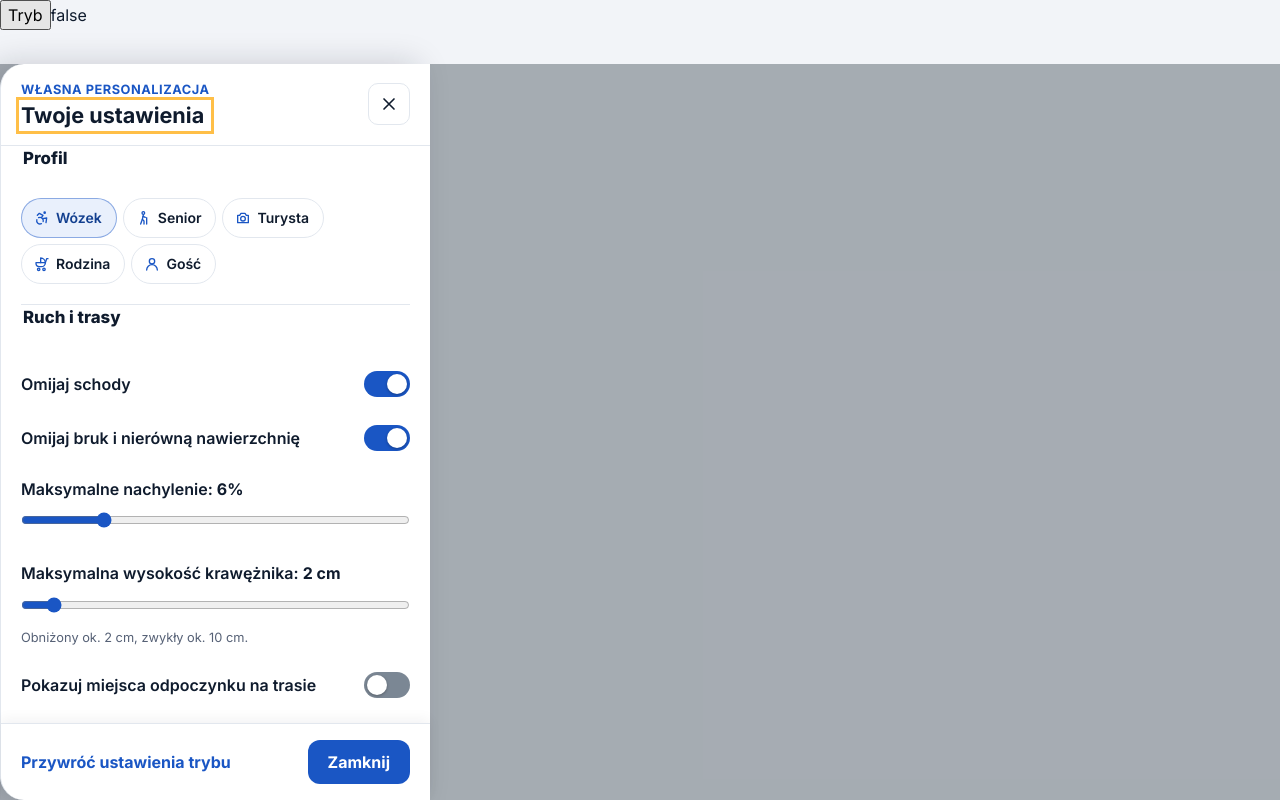
Test case: SettingsDrawer › przywraca preset wybranego trybu
Set the slider labelled "Maksymalne nachylenie: 6%" to "12" at point(178, 520), box left=21, top=507, right=410, bottom=533
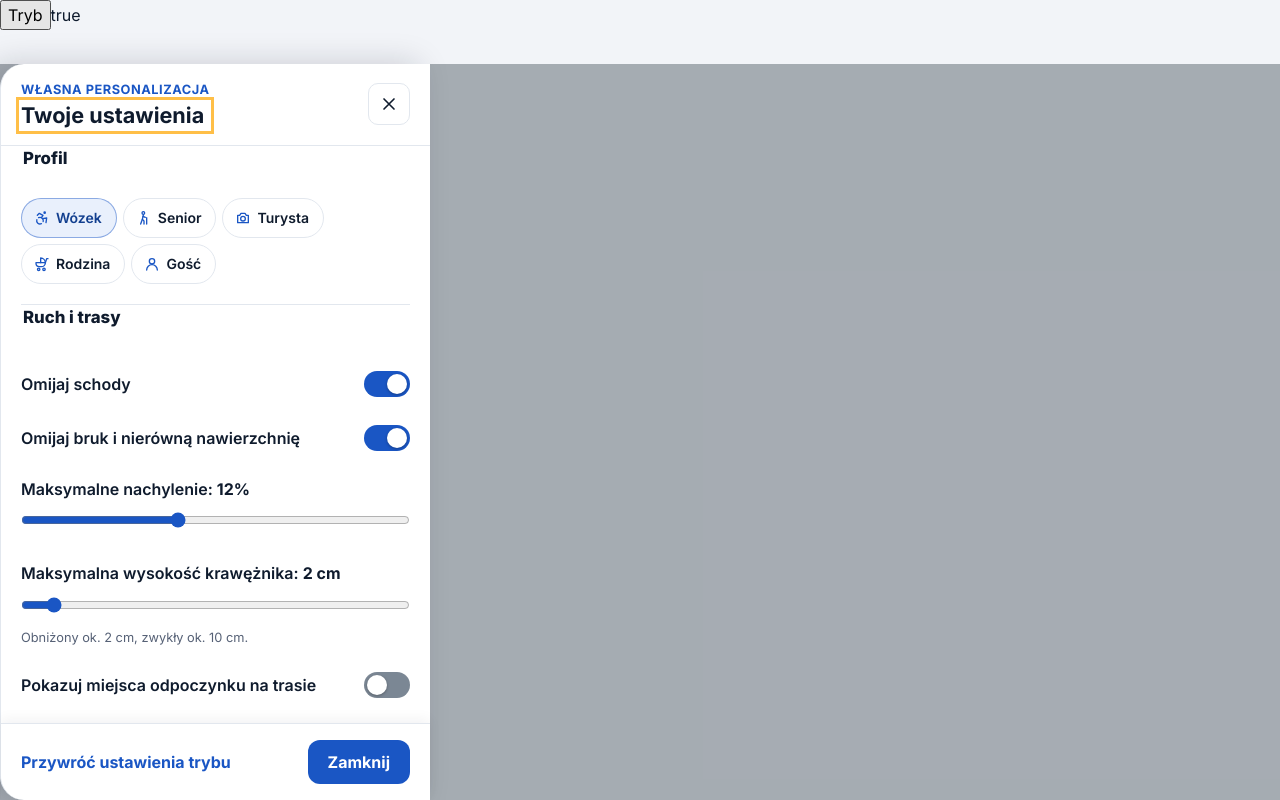
Expected: the text named "Stan personalizacji" reads "true", left=51, top=5, right=81, bottom=25
Click the button "Przywróć ustawienia trybu" at point(126, 762), box left=21, top=741, right=231, bottom=783
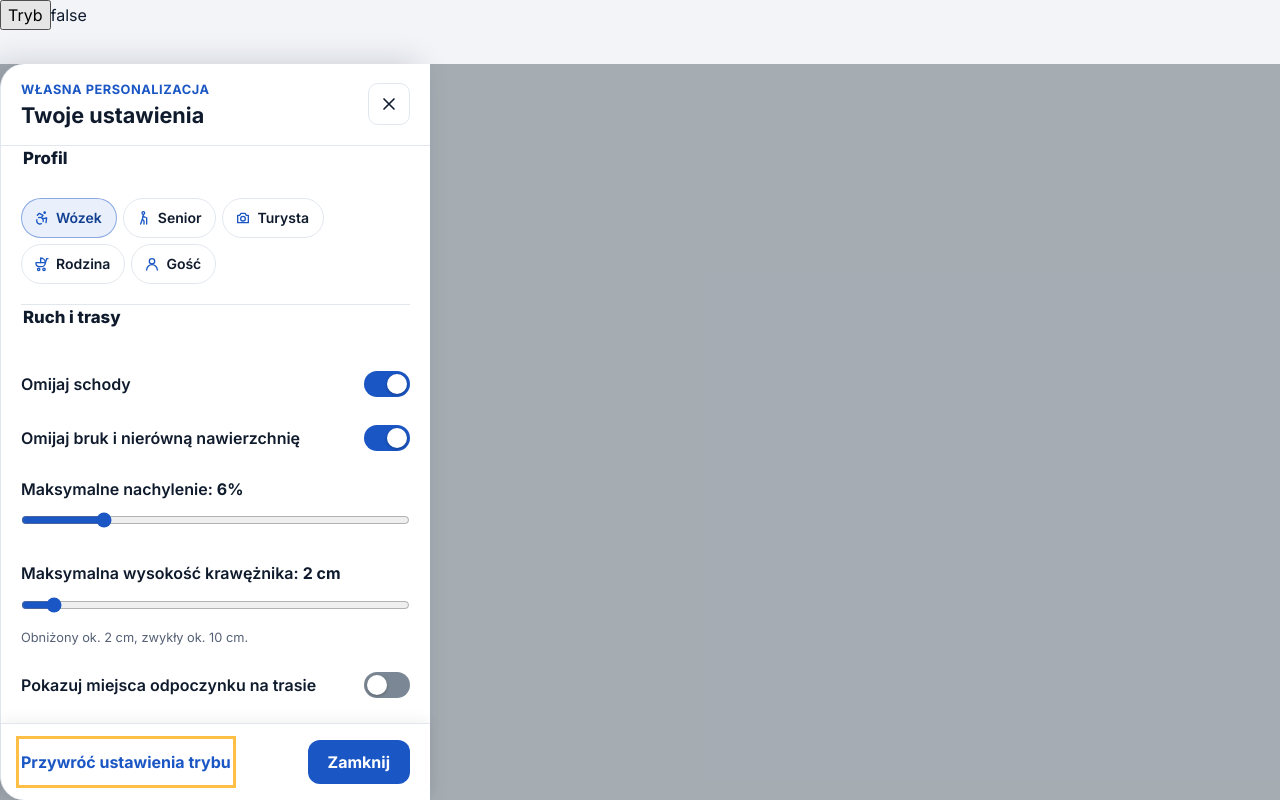
Expected: the slider labelled "Maksymalne nachylenie: 6%" is shown, left=21, top=507, right=410, bottom=533
Expected: the text named "Stan personalizacji" reads "false", left=51, top=5, right=87, bottom=25
